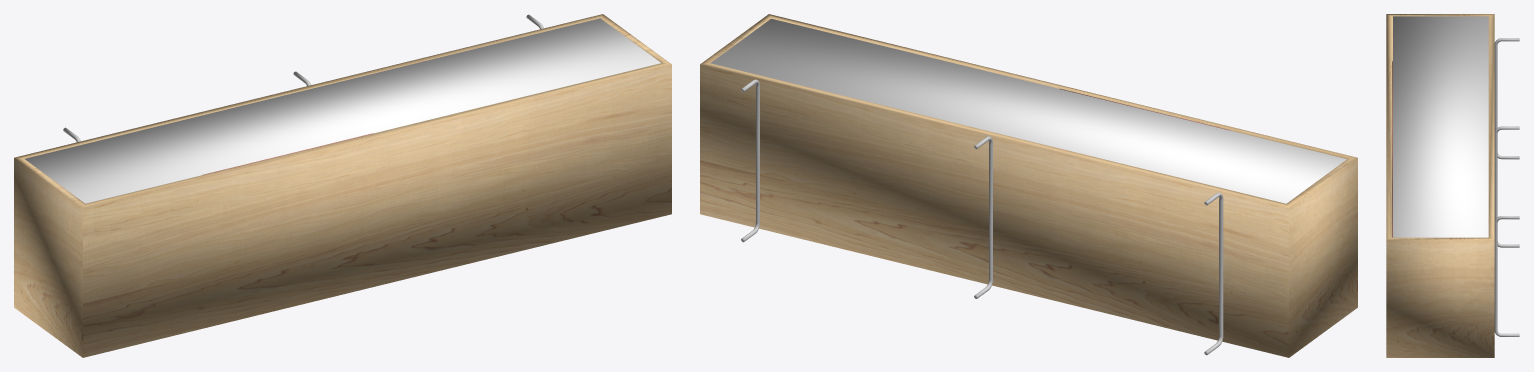
The model's file is Ider Kanyon Tv Unit N041125.obj.
3 renders of one model, left to right at view 1: azimuth 30°, elevation 25°; view 2: azimuth 150°, elevation 25°; view 3: azimuth 270°, elevation 25°, orthographic. The views are drawn at different scales.
Parts seen in each view (by area): view 1: Rectangle0361, Rectangle052, Rectangle0362, Rectangle036; view 2: Rectangle036, Rectangle052, Rectangle0362, Rectangle049, Rectangle051, Rectangle050; view 3: Rectangle052, Rectangle0364, Rectangle036, Rectangle051, Rectangle050, Rectangle049, Rectangle043.
Part boxes in pixels (x1,y1,x2,y2): Rectangle0361: (83,64,671,357); Rectangle052: (25,18,660,203); Rectangle0362: (14,158,82,357); Rectangle036: (14,14,671,207); Rectangle036: (700,14,1357,357); Rectangle052: (710,18,1346,203); Rectangle0362: (1289,158,1357,357); Rectangle049: (1204,192,1223,355); Rectangle051: (741,79,759,242); Rectangle050: (974,136,992,298); Rectangle052: (1393,16,1488,237); Rectangle0364: (1386,240,1494,357); Rectangle036: (1386,14,1494,239); Rectangle051: (1494,216,1519,336); Rectangle050: (1494,126,1519,247); Rectangle049: (1494,38,1519,159); Rectangle043: (1392,61,1392,237).
Size of the model in its own units: 1810 by 451 by 451.
